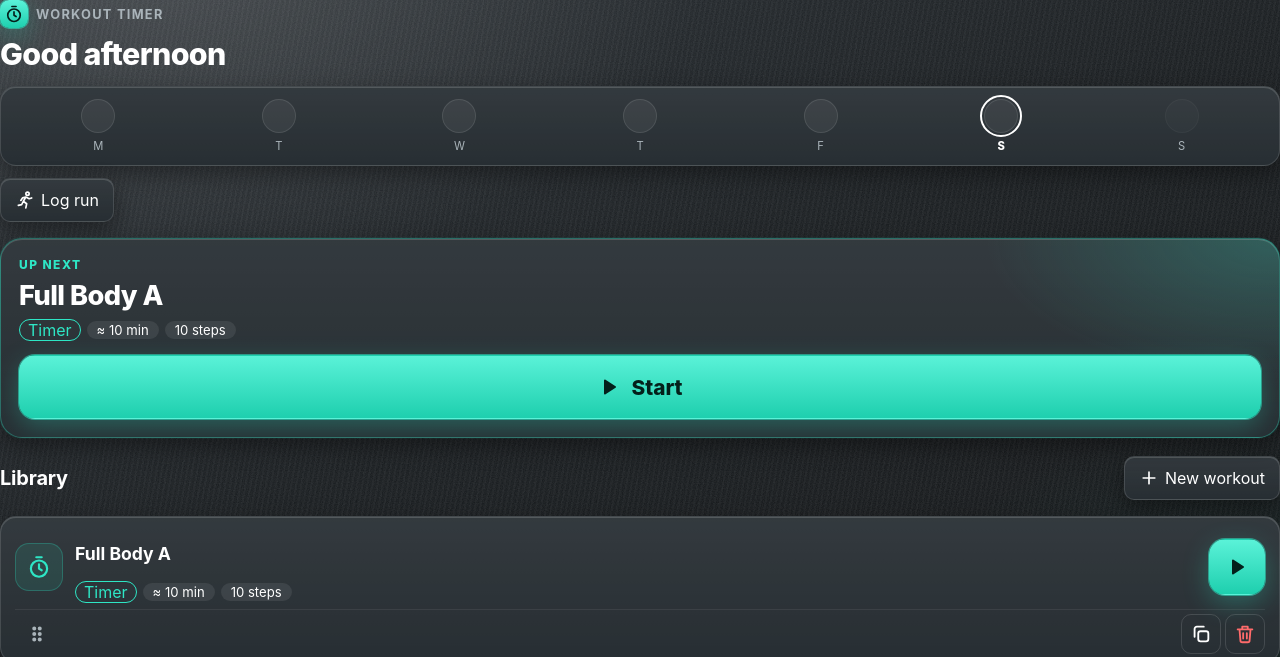
it: Library › Duplicate adds a copy
The width and height of the screenshot is (1280, 657).
Click the 2nd button named "Duplicate Full Body A". click: coordinates (1201, 634)
box: left=1181, top=614, right=1221, bottom=654
(page scrolled)
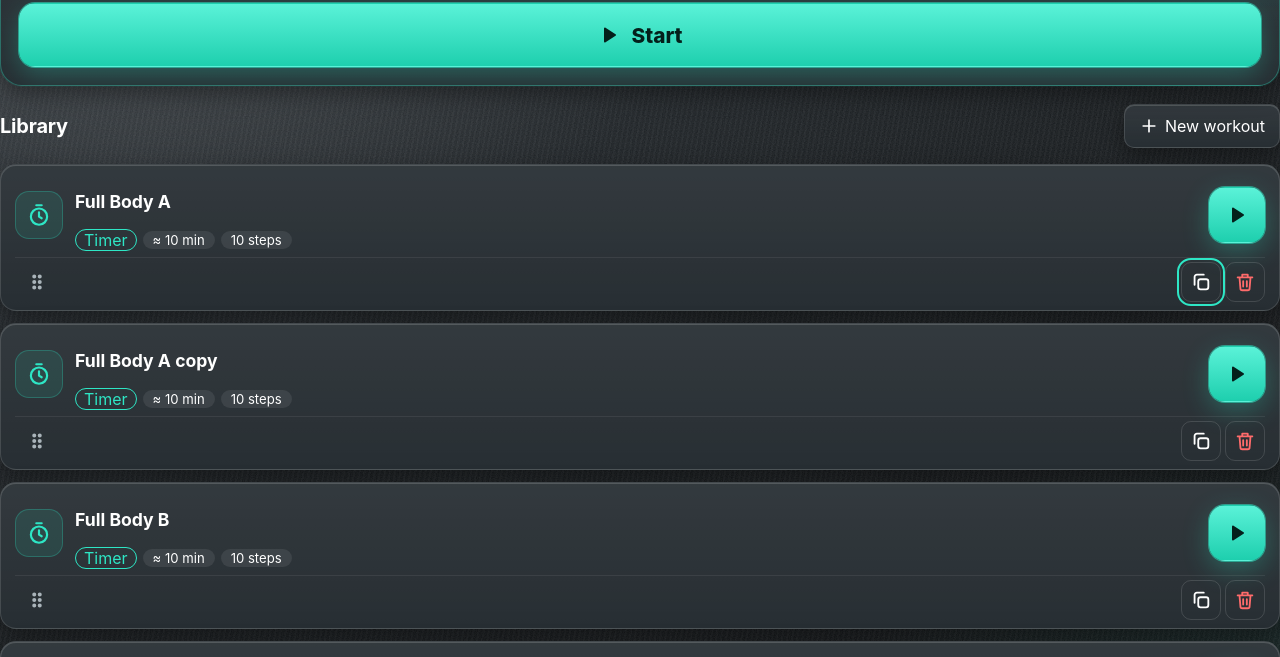
Result: the button "Full Body A copy" is shown at left=75, top=338, right=1197, bottom=382
